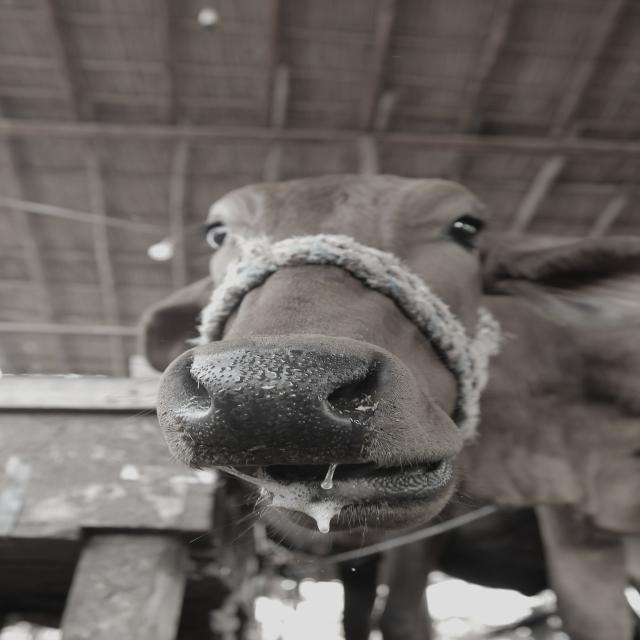muzzles: (160, 344, 406, 475)
